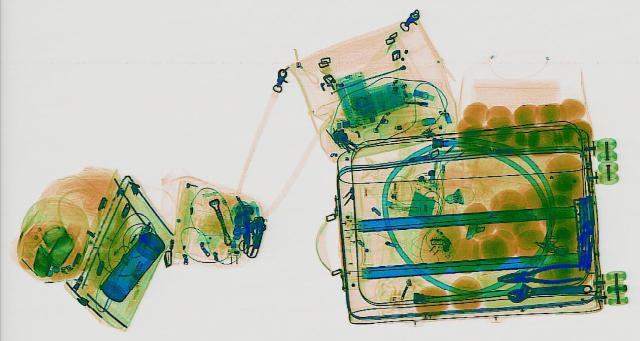Pliers: (494, 259, 588, 287)
Wrench: (502, 281, 596, 301)
